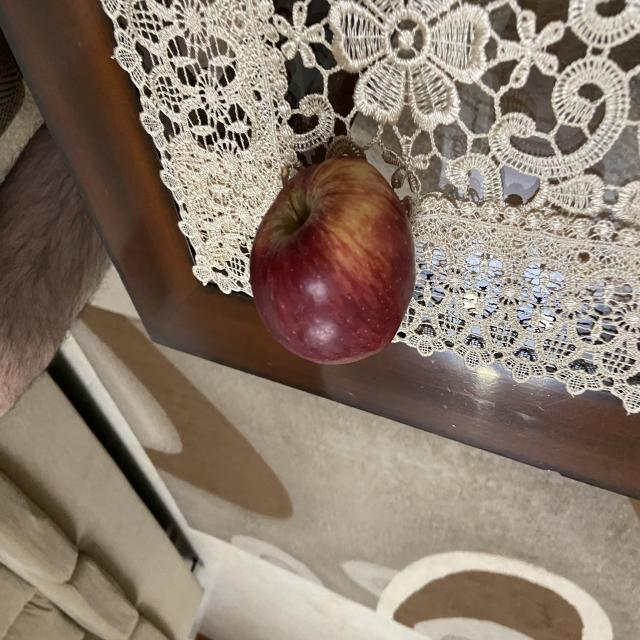apple: (250, 147, 416, 369)
